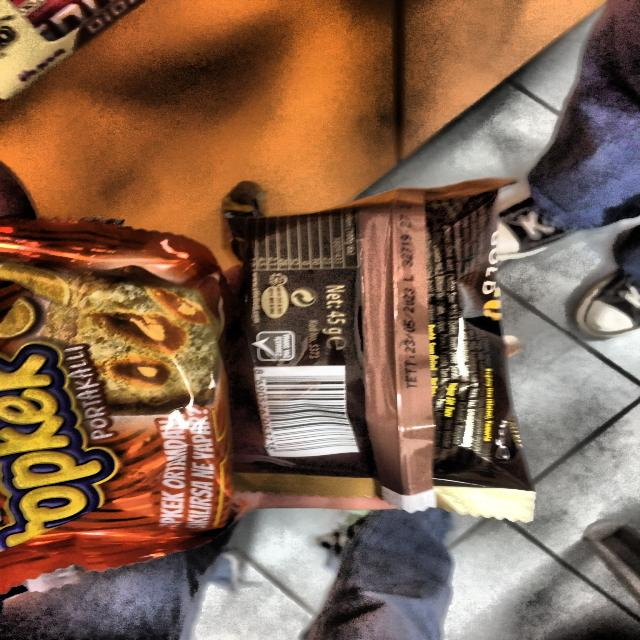Plastic: (214, 160, 552, 554), (0, 206, 271, 593)
